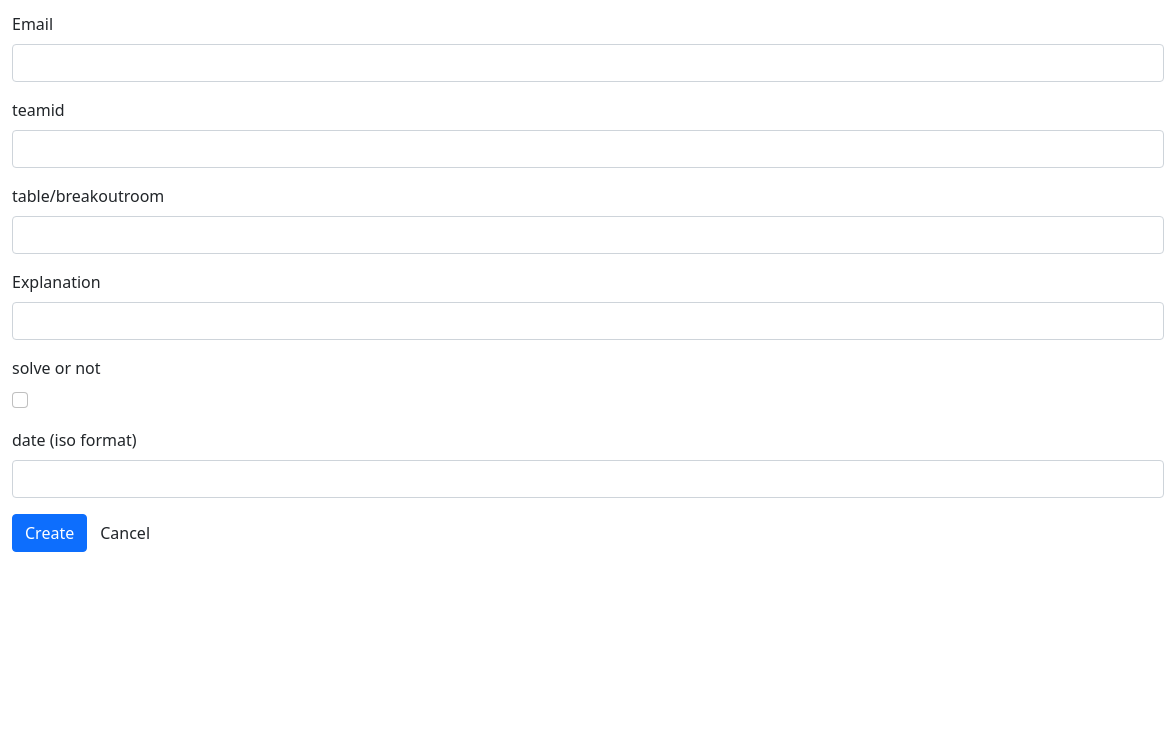
HelpRequestsForm tests › Correct Error messsages on bad input
The width and height of the screenshot is (1176, 732).
Expected: the field with test id "HelpRequestsForm-requesterEmail" is shown, [12,44,1164,82]
In the field with test id "HelpRequestsForm-requestTime": x=588, y=479 [12,460,1164,498], type "bad-input"
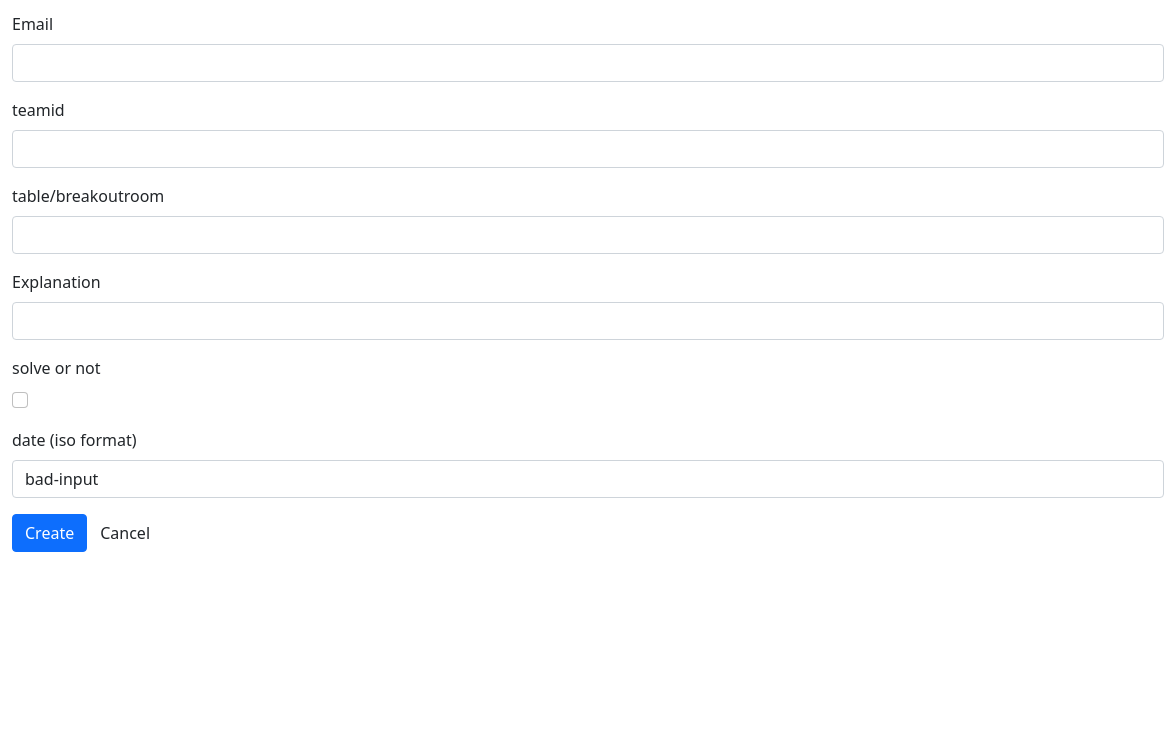
Click the button with test id "HelpRequestsForm-submit": x=50, y=533 [12,514,87,552]
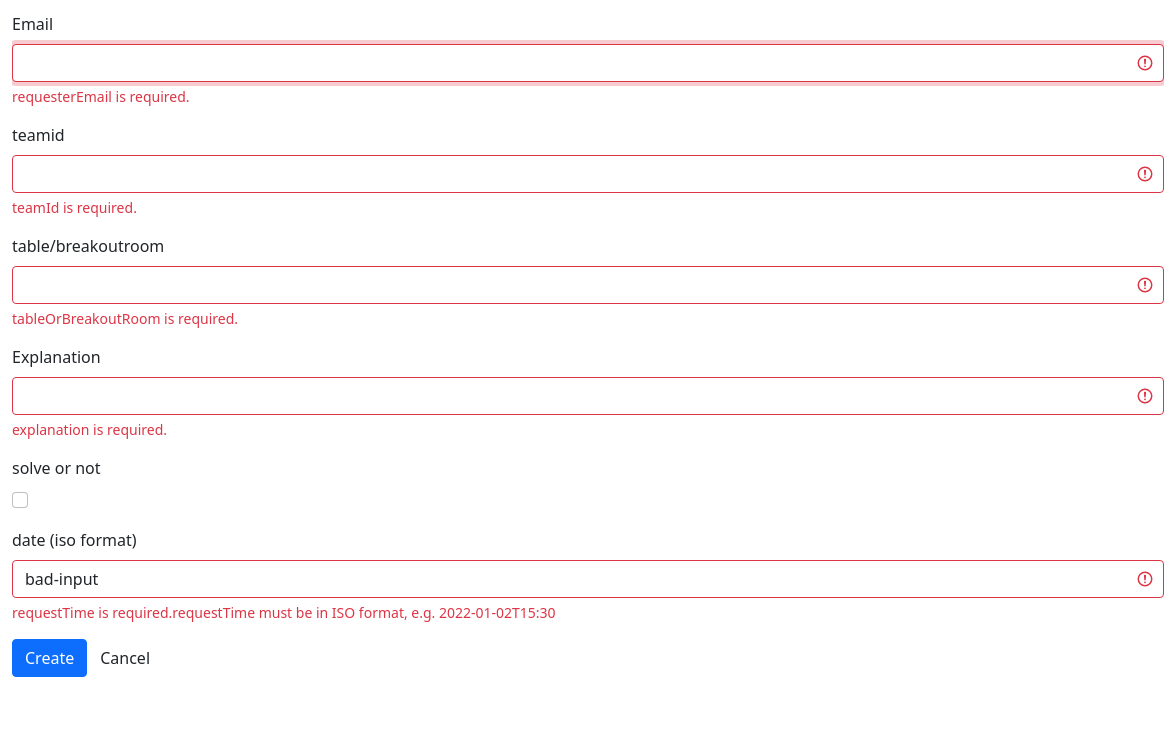
Result: the text "requesterEmail is required." is shown at [12,87,190,106]
Result: the text "requestTime must be in ISO format, e.g. 2022-01-02T15:30" is shown at [172,603,556,622]
Result: the text "explanation is required." is shown at [12,420,167,439]
